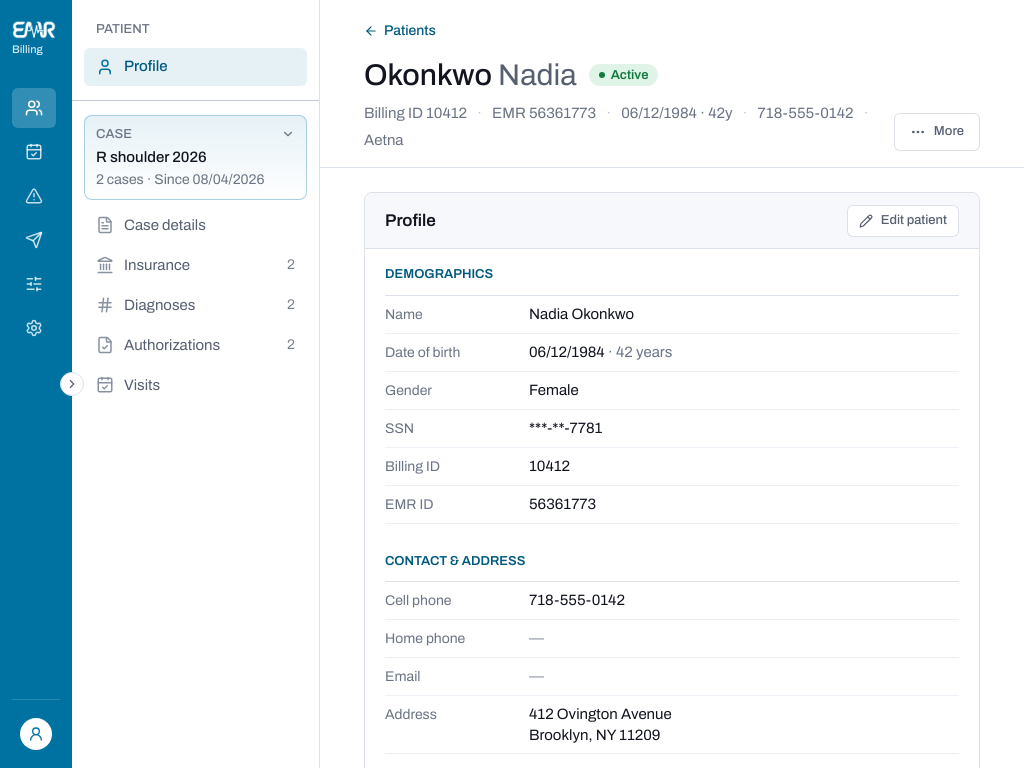
it: the patient chart — header and Profile › deactivates the patient from More, after asking
Click the button with aria-label "More actions for Nadia Okonkwo": (937, 132) [894,113,980,151]
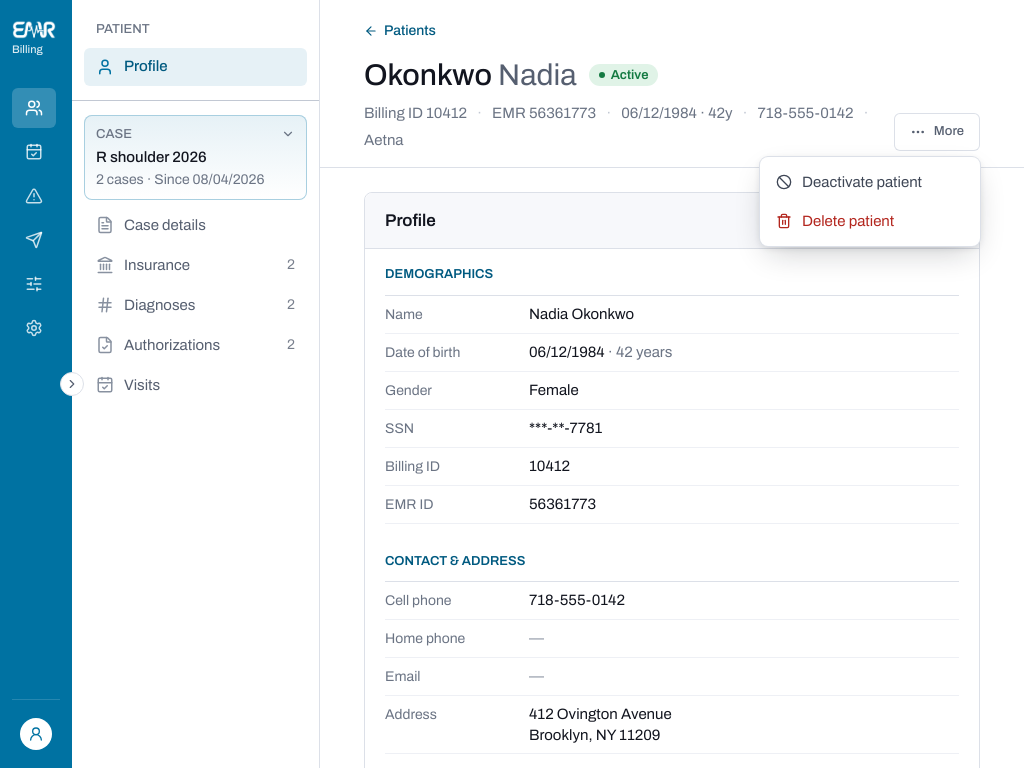
Click the menu item "Deactivate patient": (849, 182) [776,174,922,190]
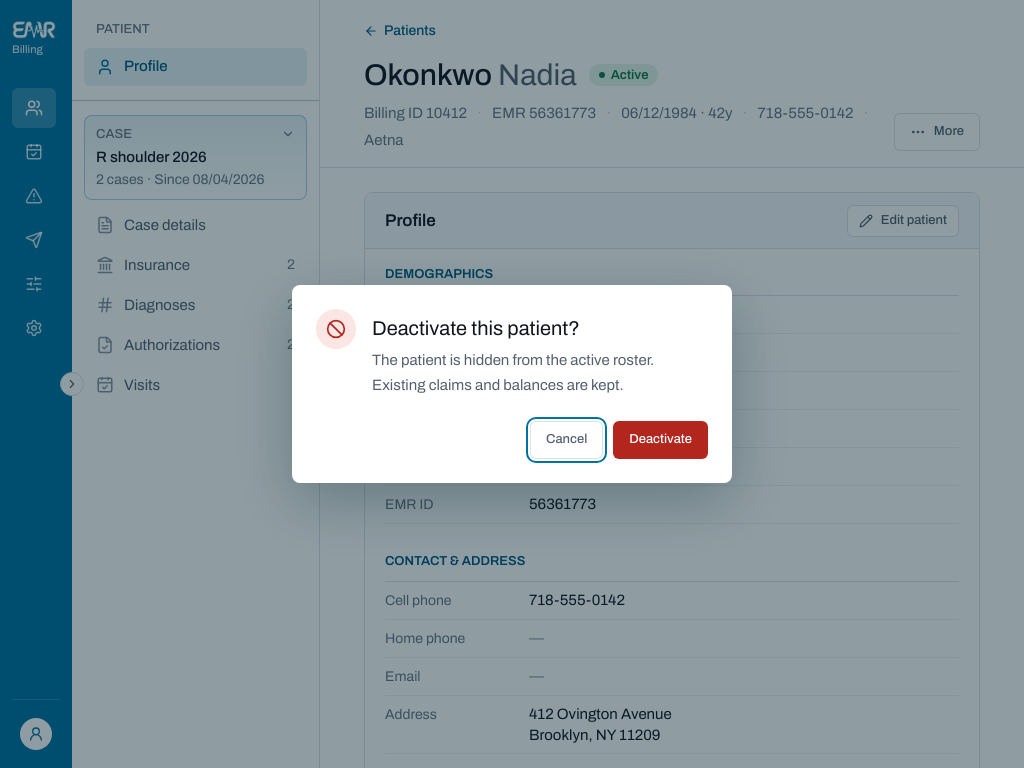
Click the button "Deactivate": (661, 440) [613,421,708,459]
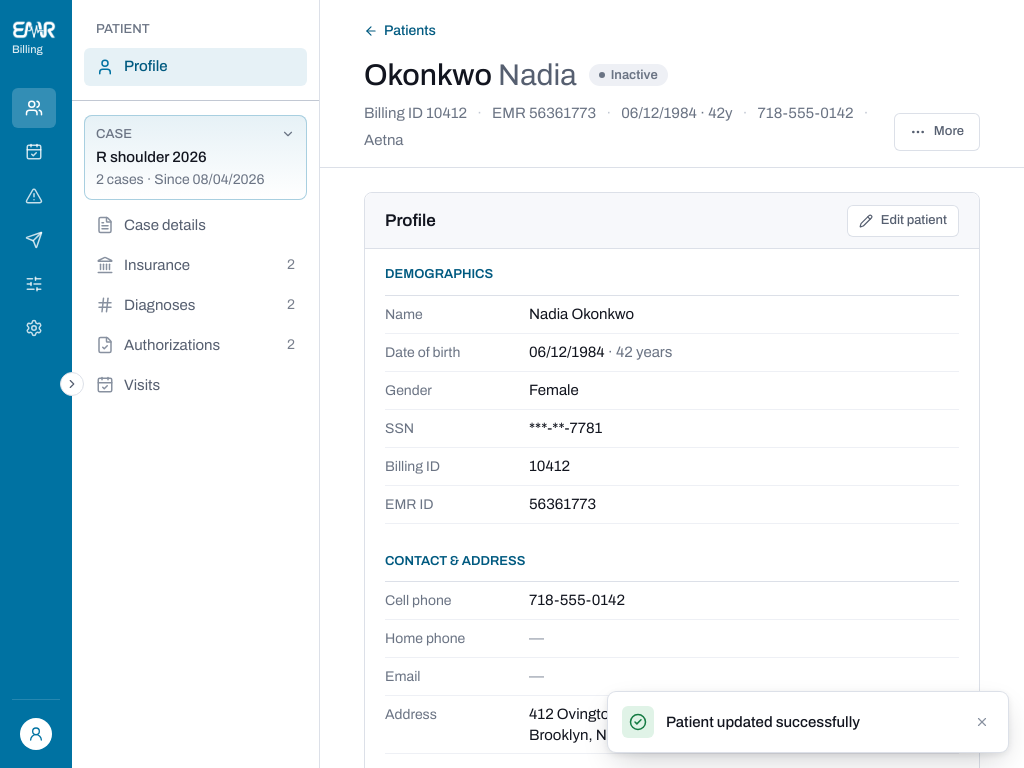
Expected: the heading "Okonkwo Nadia Inactive" is shown, [364,58,668,90]
